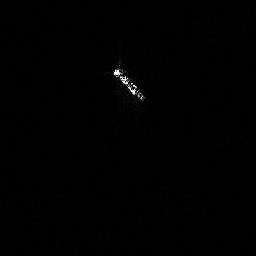ship: (112, 66, 147, 103)
